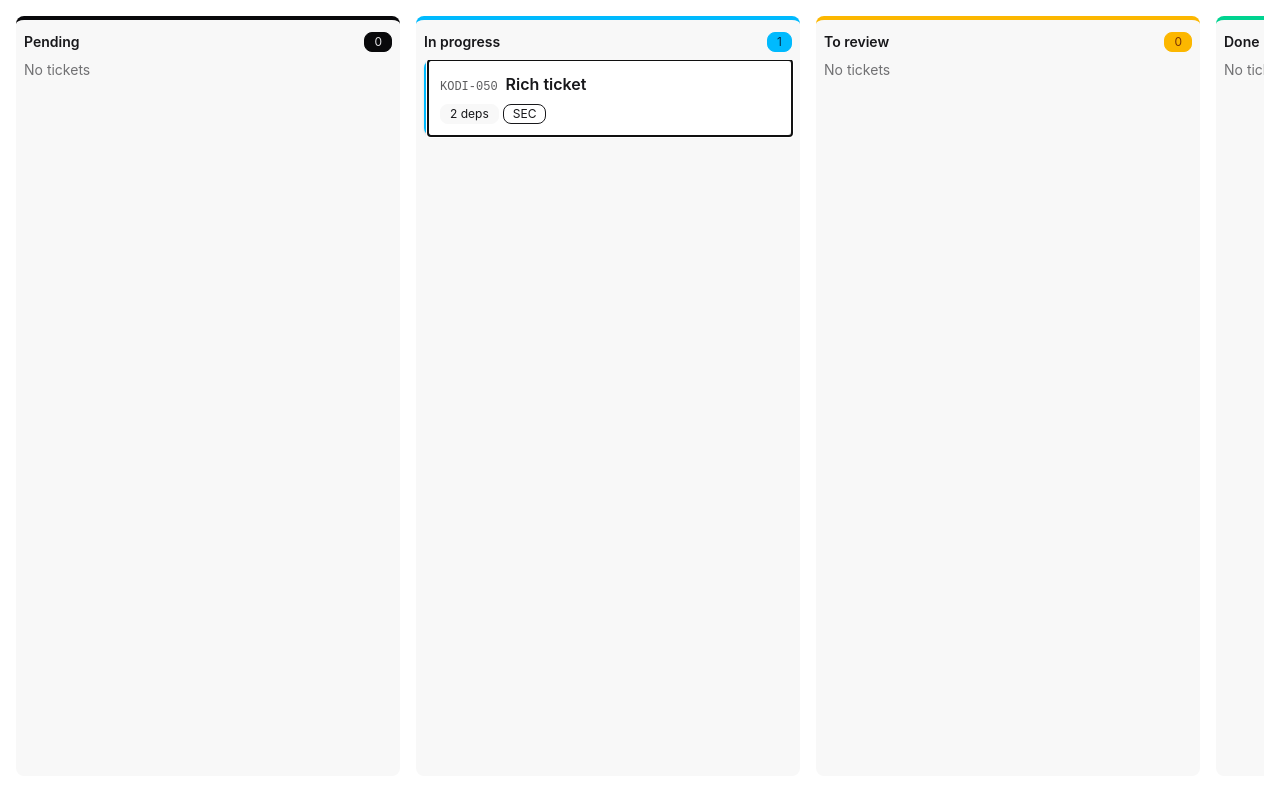
Test: TicketModal — opens on card click and reveals the heavy §7 fields › opens with Enter and with Space from the focused card
Type keys "[Enter]"
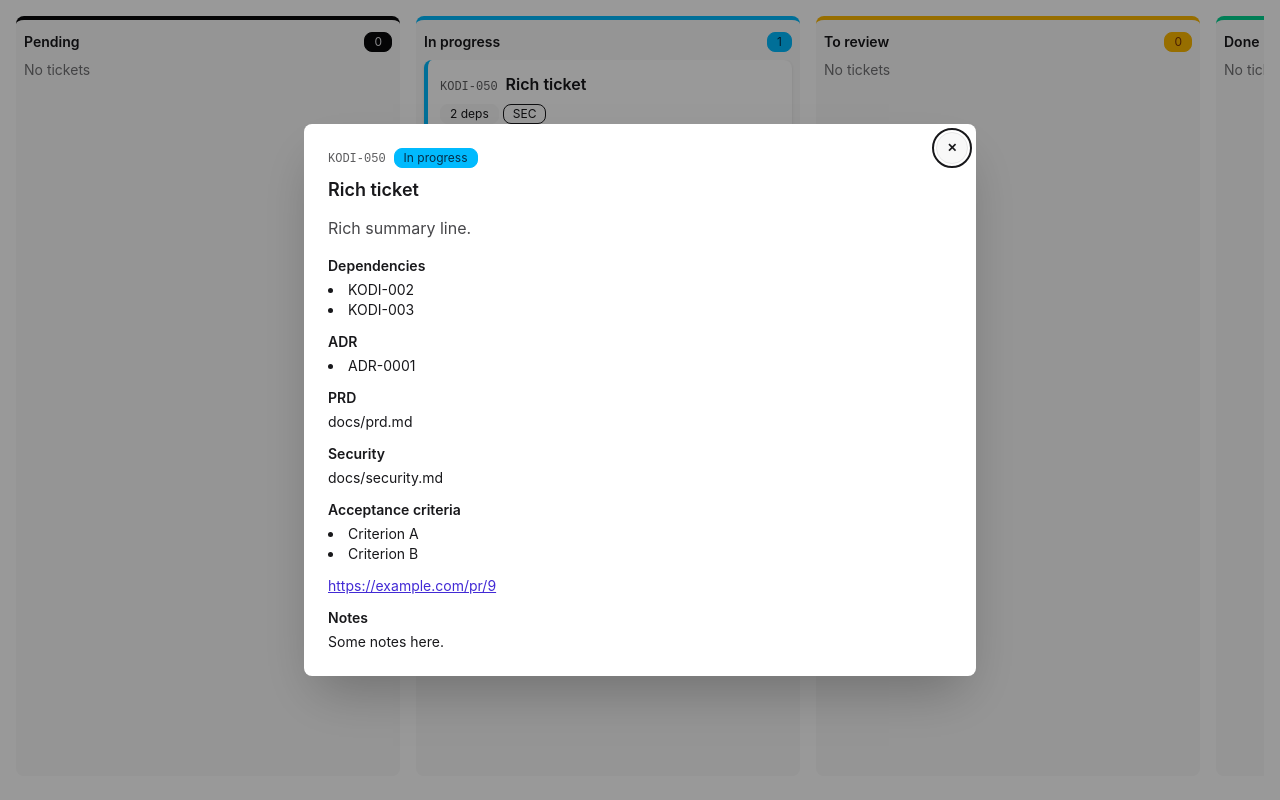
expect the dialog is shown: met
Click the button named "Close" at (952, 148), box [936,132,968,164]
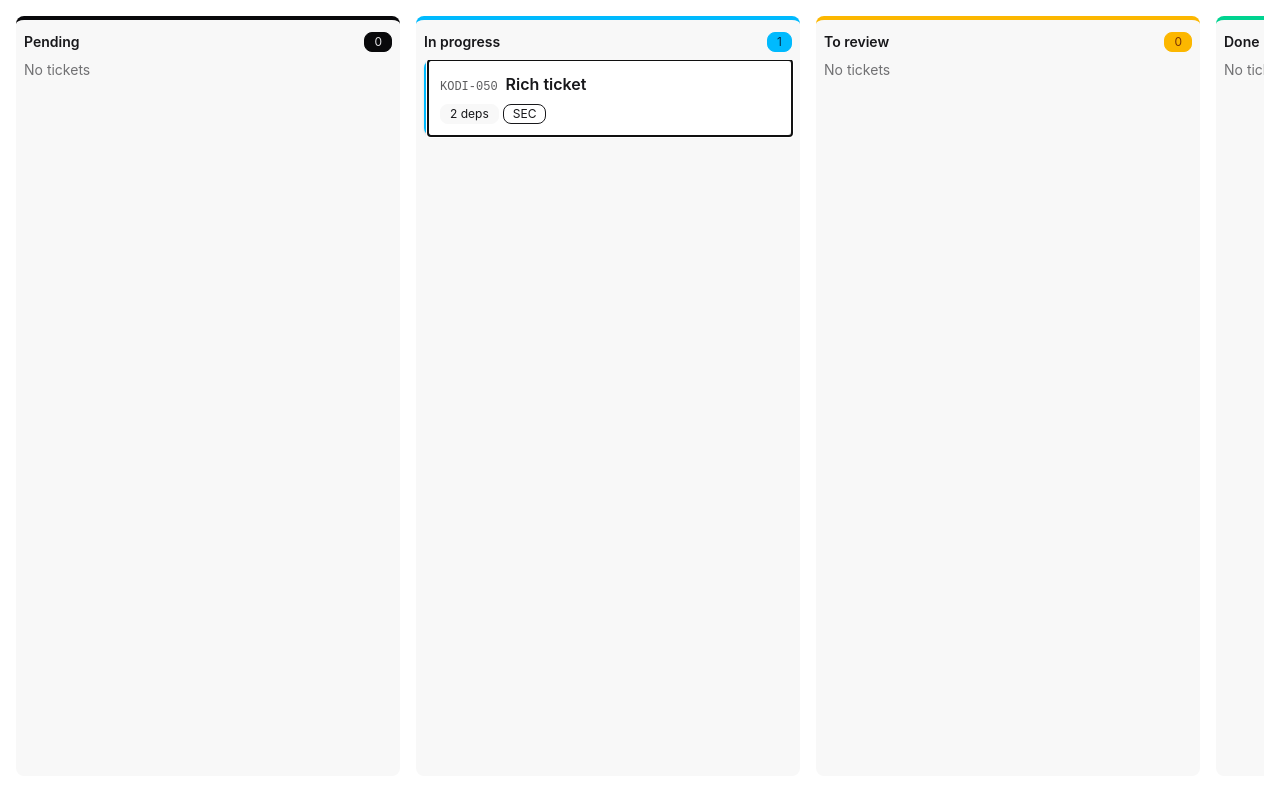
expect the dialog is gone: met
Type keys "[Space]"
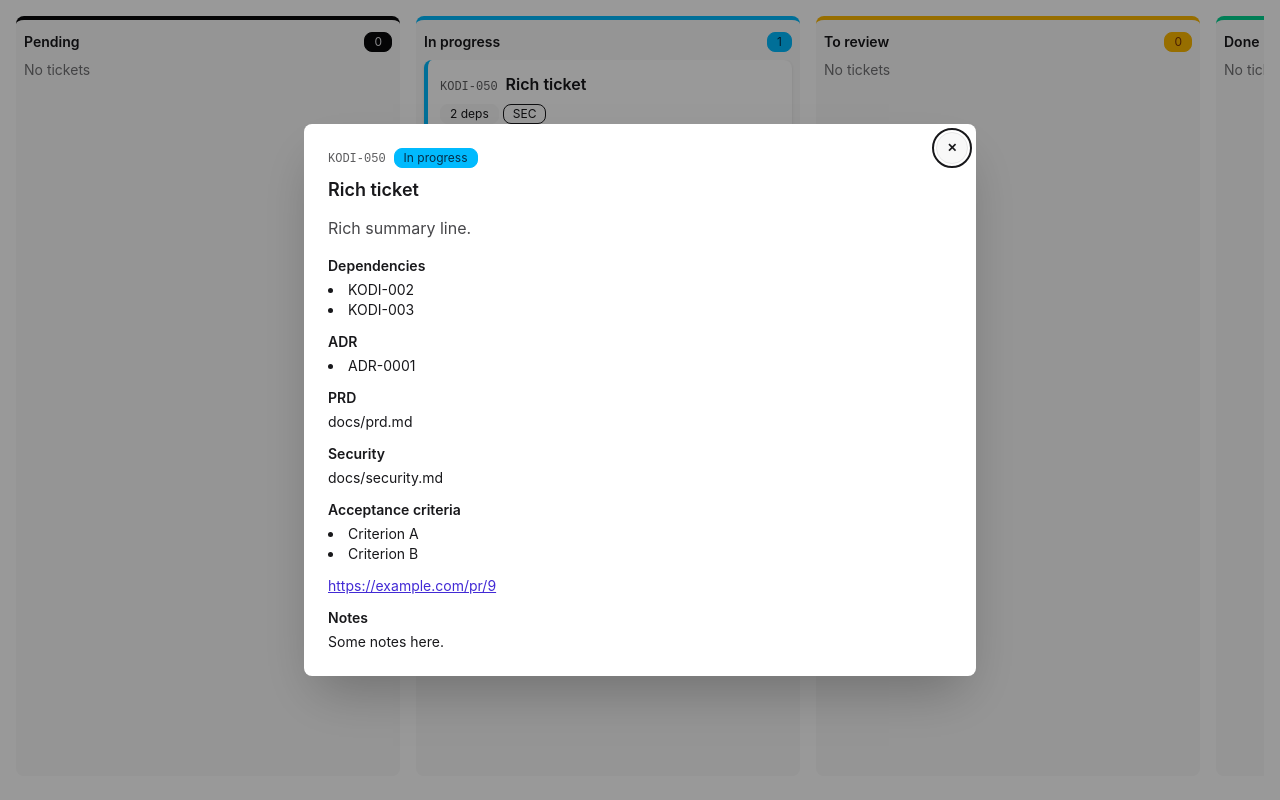
expect the dialog is shown: met
